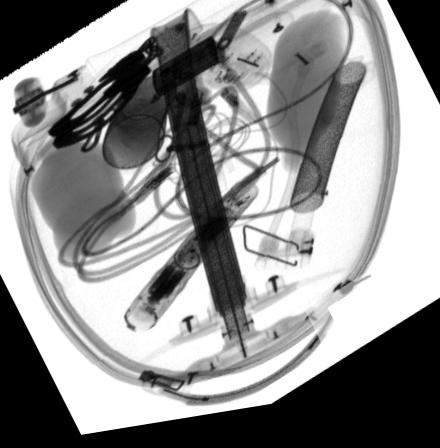Baton: (125, 189, 260, 339)
HandCuffs: (47, 38, 163, 150)
Lighter: (153, 42, 221, 102)
